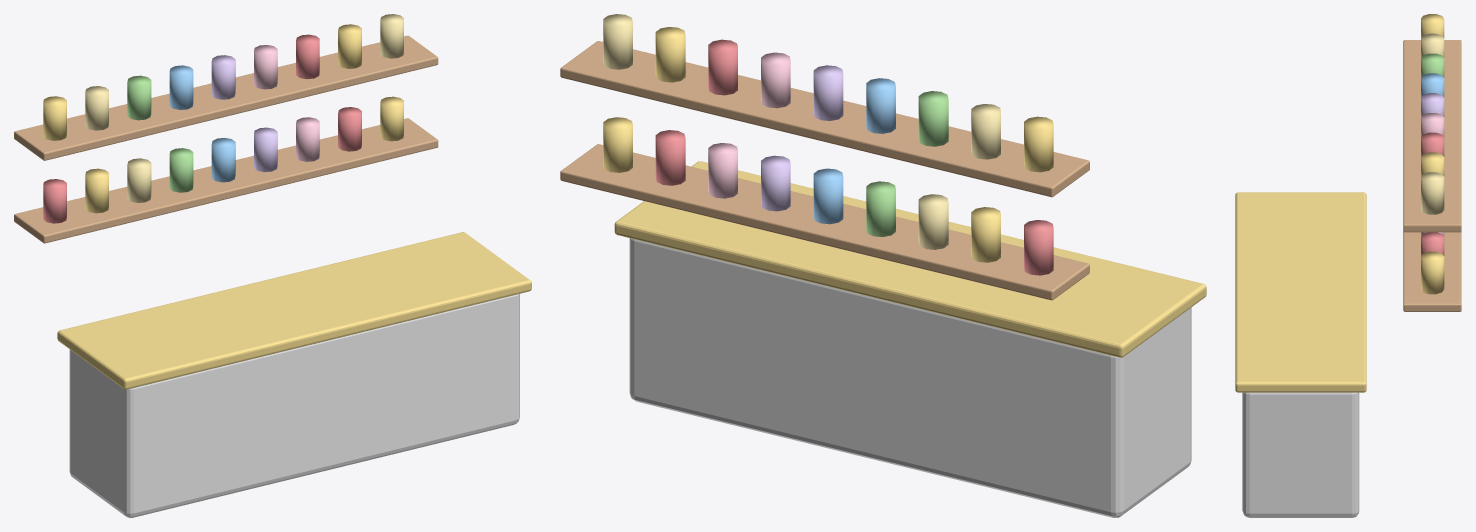
Rendered from fx_counter.glb.
3 views of the same model, side by side, from view 1: azimuth 30°, elevation 25°; view 2: azimuth 150°, elevation 25°; view 3: azimuth 270°, elevation 25° (orthographic). The views are drawn at different scales.
Visible parts, largest first — view 1: fx_counter; view 2: fx_counter; view 3: fx_counter.
Part boxes in pixels (left/top/right/bottom): fx_counter: left=14, top=14, right=531, bottom=517; fx_counter: left=560, top=14, right=1206, bottom=517; fx_counter: left=1235, top=14, right=1461, bottom=517.
Size of the model in its own units: 3.1 by 2.48 by 1.55.
